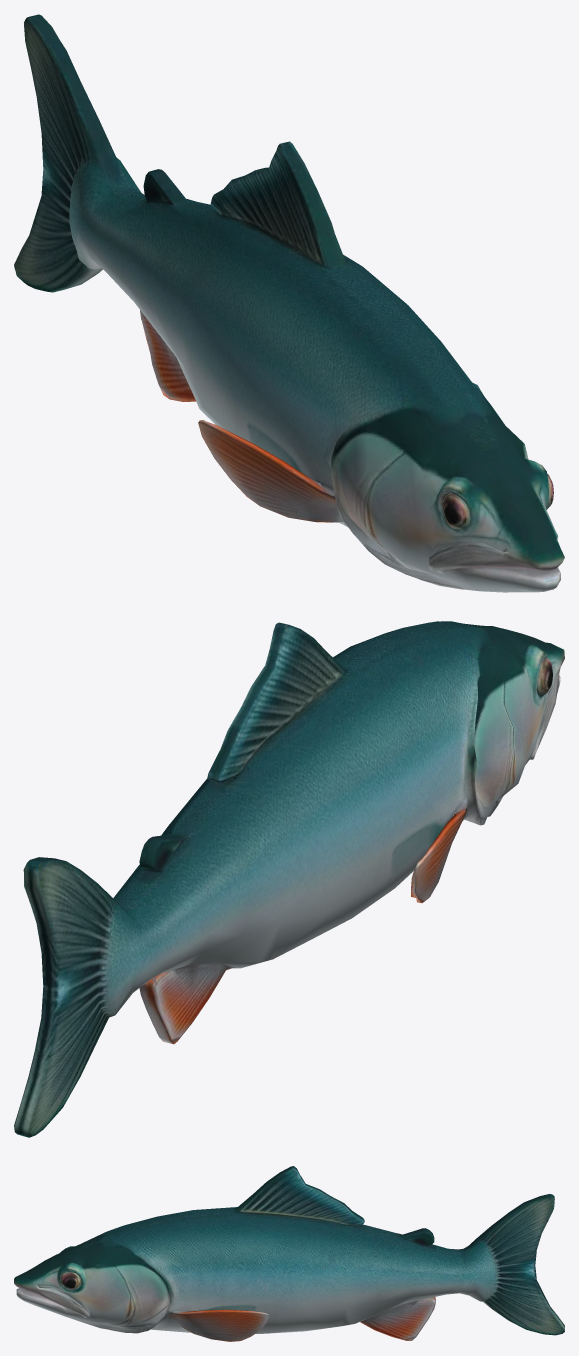
Rendered from pokedex_aqua.glb.
The picture shows the model from 3 angles, top to bottom: view 1: azimuth 30°, elevation 25°; view 2: azimuth 150°, elevation 25°; view 3: azimuth 270°, elevation 25°; orthographic projection. The views are drawn at different scales.
Bounding box in the file's own units: 0.231 × 0.3325 × 0.957.
Materials: 1 (1 with a texture image).
